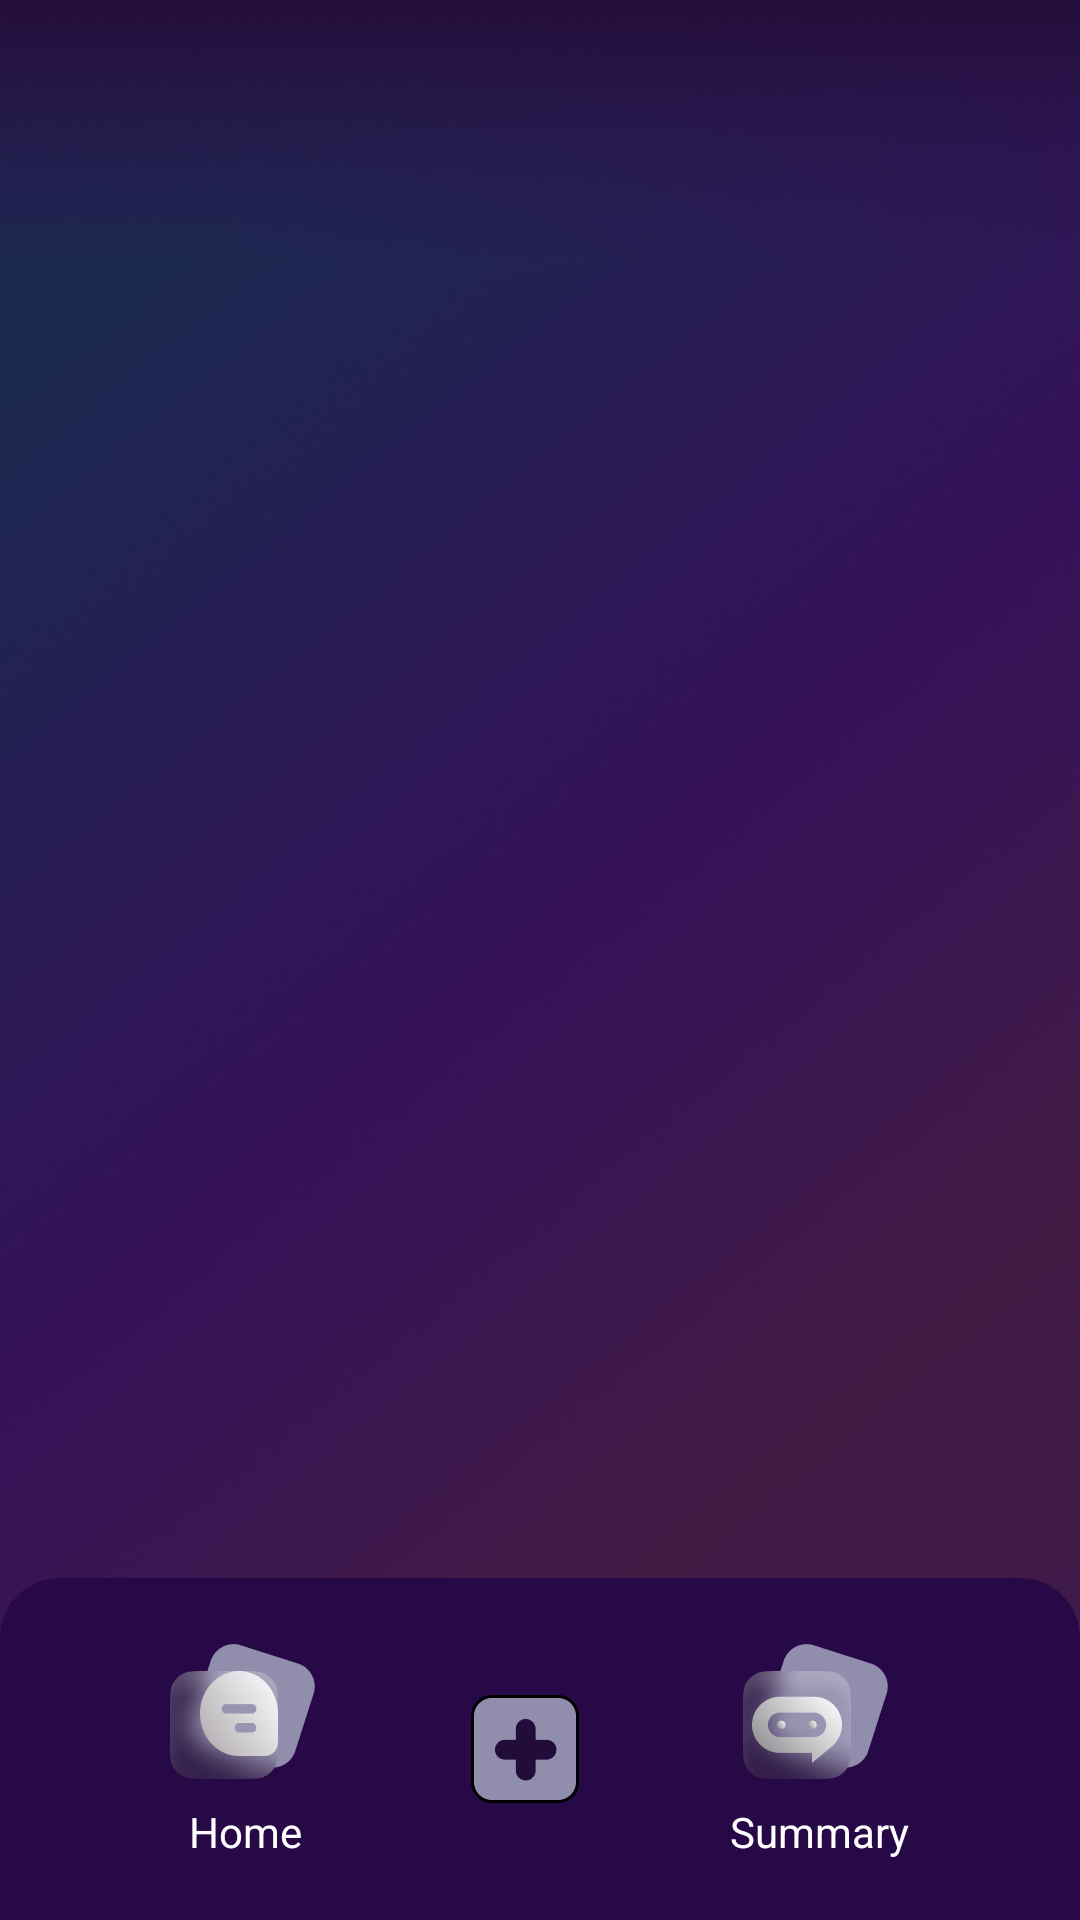

Screen size 1080 × 1920. Icon name, then its center in pixels as point (x, y):
add: point (525, 1749)
